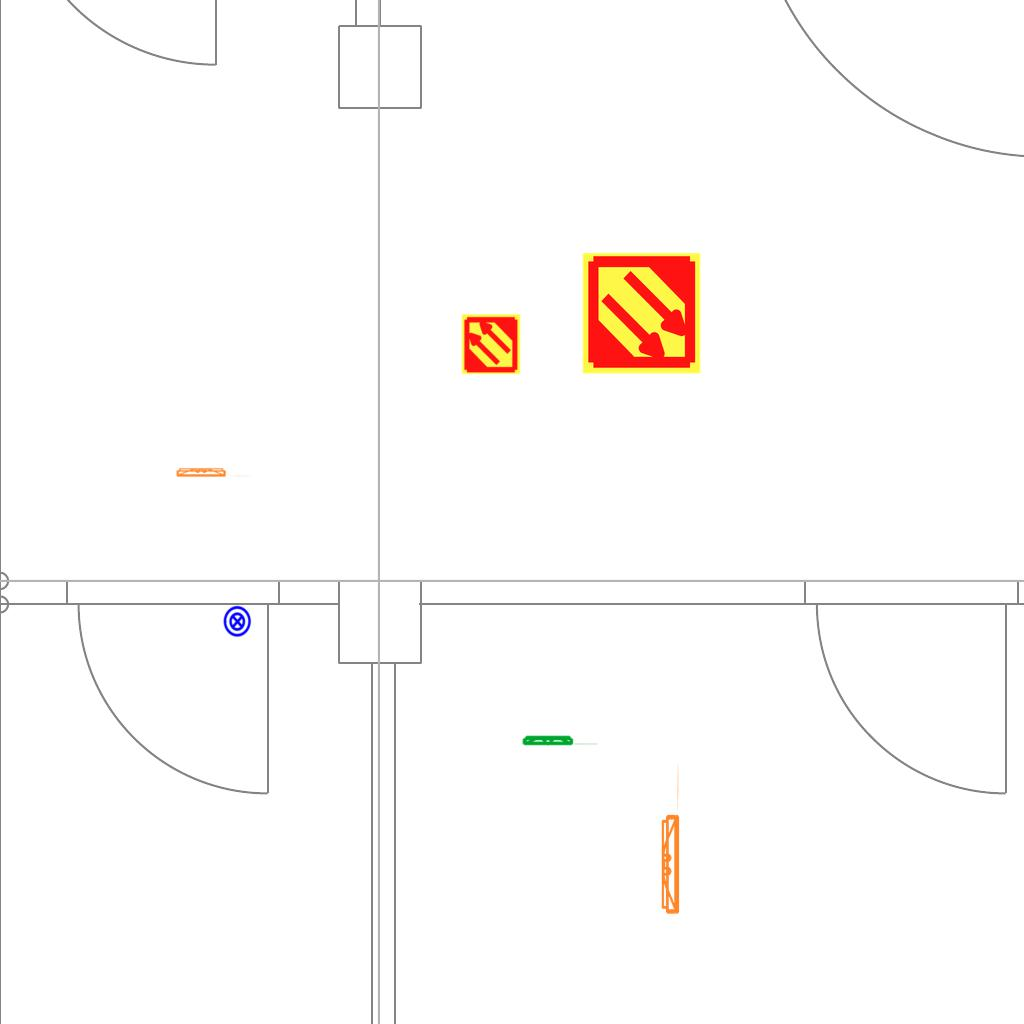ASR_Ansaugrauchmelder: (579, 251, 704, 376), (460, 313, 522, 375)
Sicherheitsleuchte_Wandeinbau: (657, 760, 682, 919), (521, 734, 600, 746), (174, 466, 253, 478)
Taster_beleuchtet: (221, 605, 254, 638)
